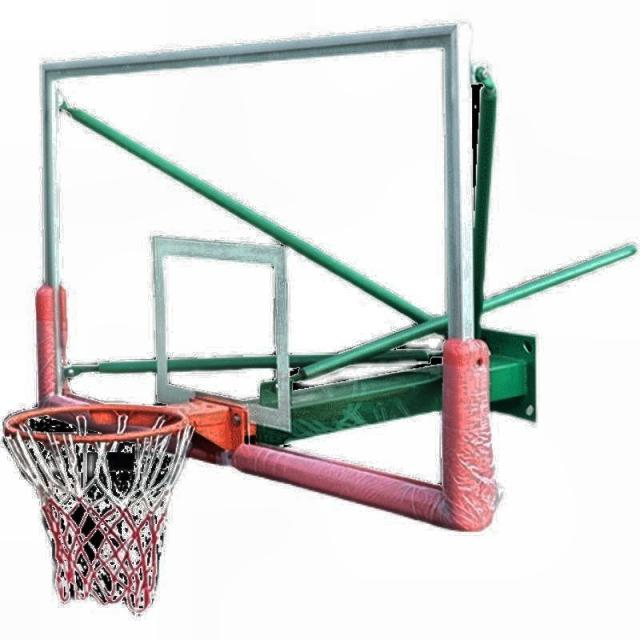rim: (1, 406, 193, 614)
